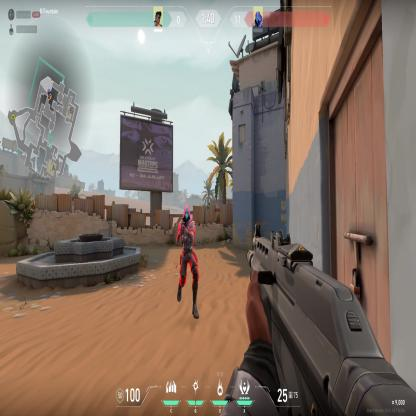enemy: (174, 202, 201, 323)
